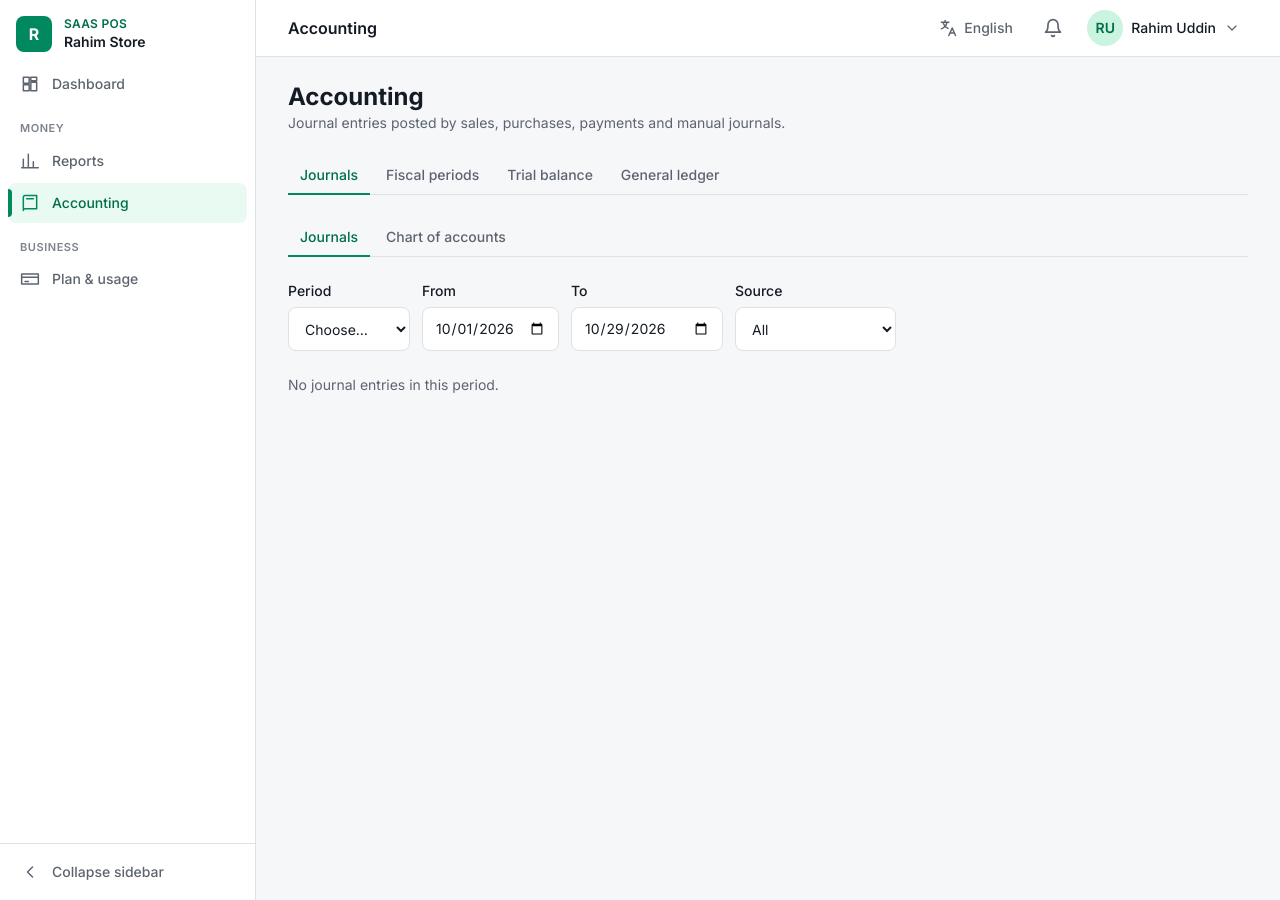
Test case: accounting › renames a system account, with its code and type locked, and shows a stale-version error
Click the tab "Chart of accounts": x=446, y=238 [374, 219, 518, 257]
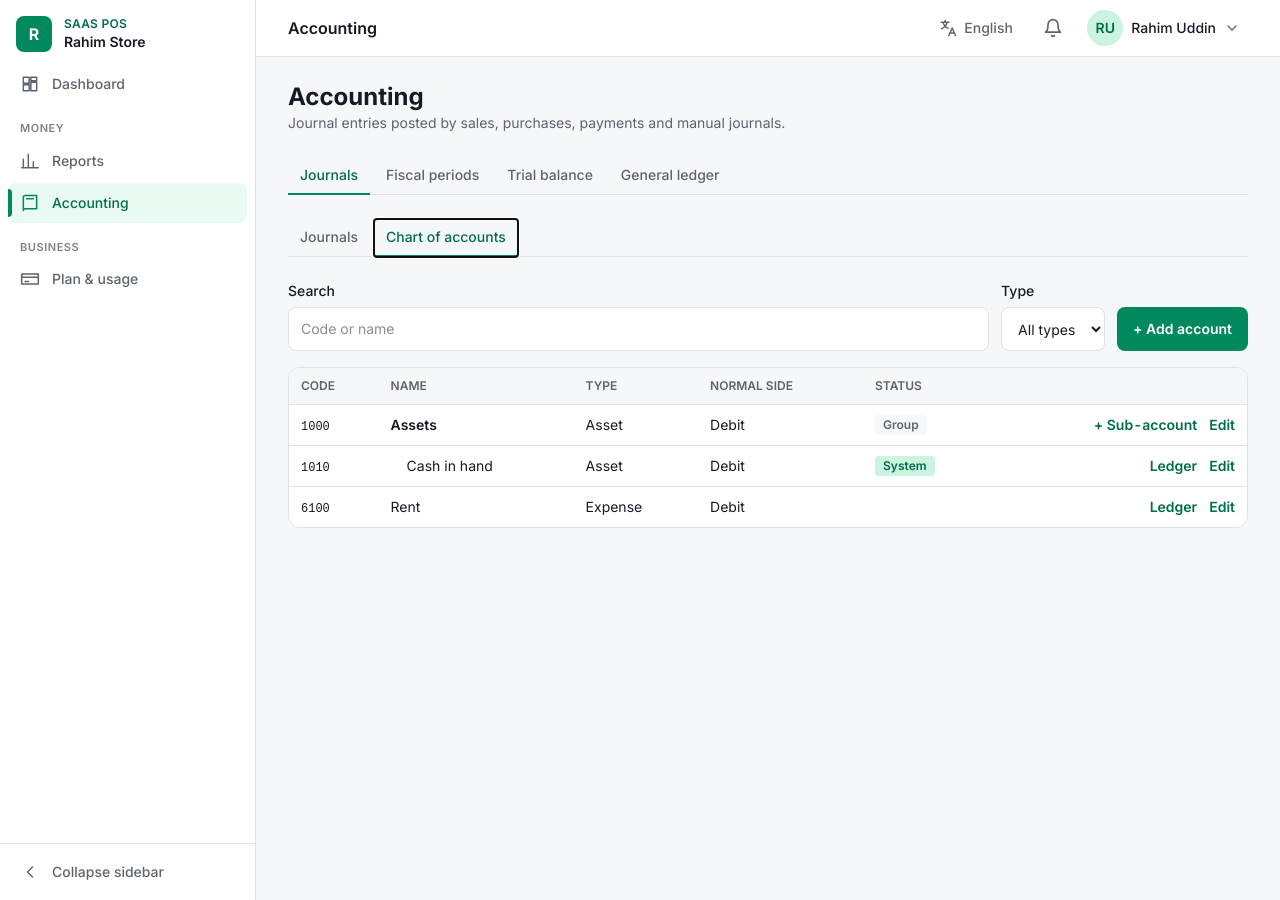
Click the button with aria-label "Edit Cash in hand": x=1222, y=466 [1209, 456, 1235, 476]
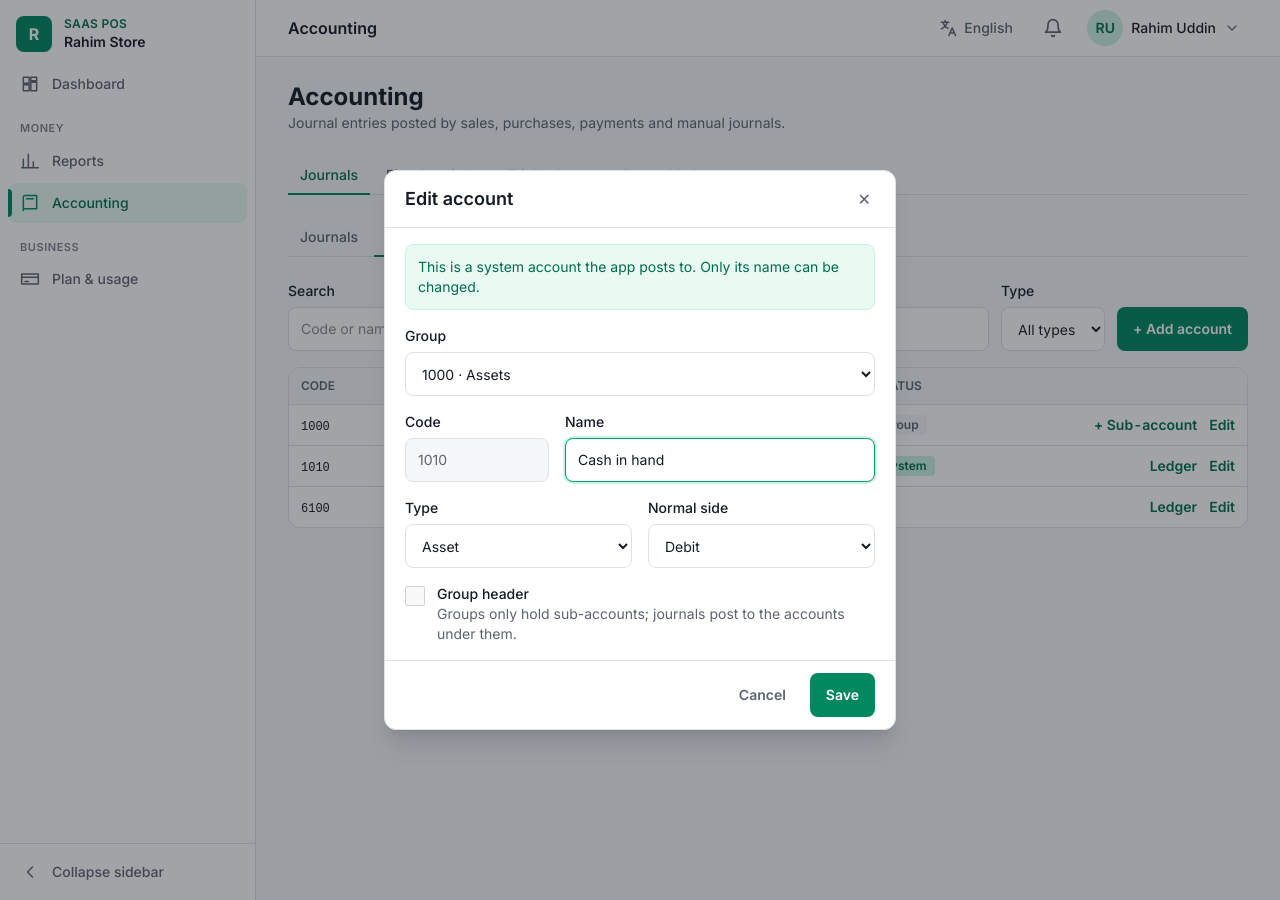
Result: the text "This is a system account the app posts to. Only its name can be changed." is shown at [405, 244, 875, 310]
Result: the field labelled "Code" is disabled at [405, 438, 549, 482]
Result: the dropdown labelled "Normal side" is disabled at [648, 524, 875, 568]
Replace the text in the field labelled "Name" with "Cash box": x=720, y=460 [565, 438, 875, 482]
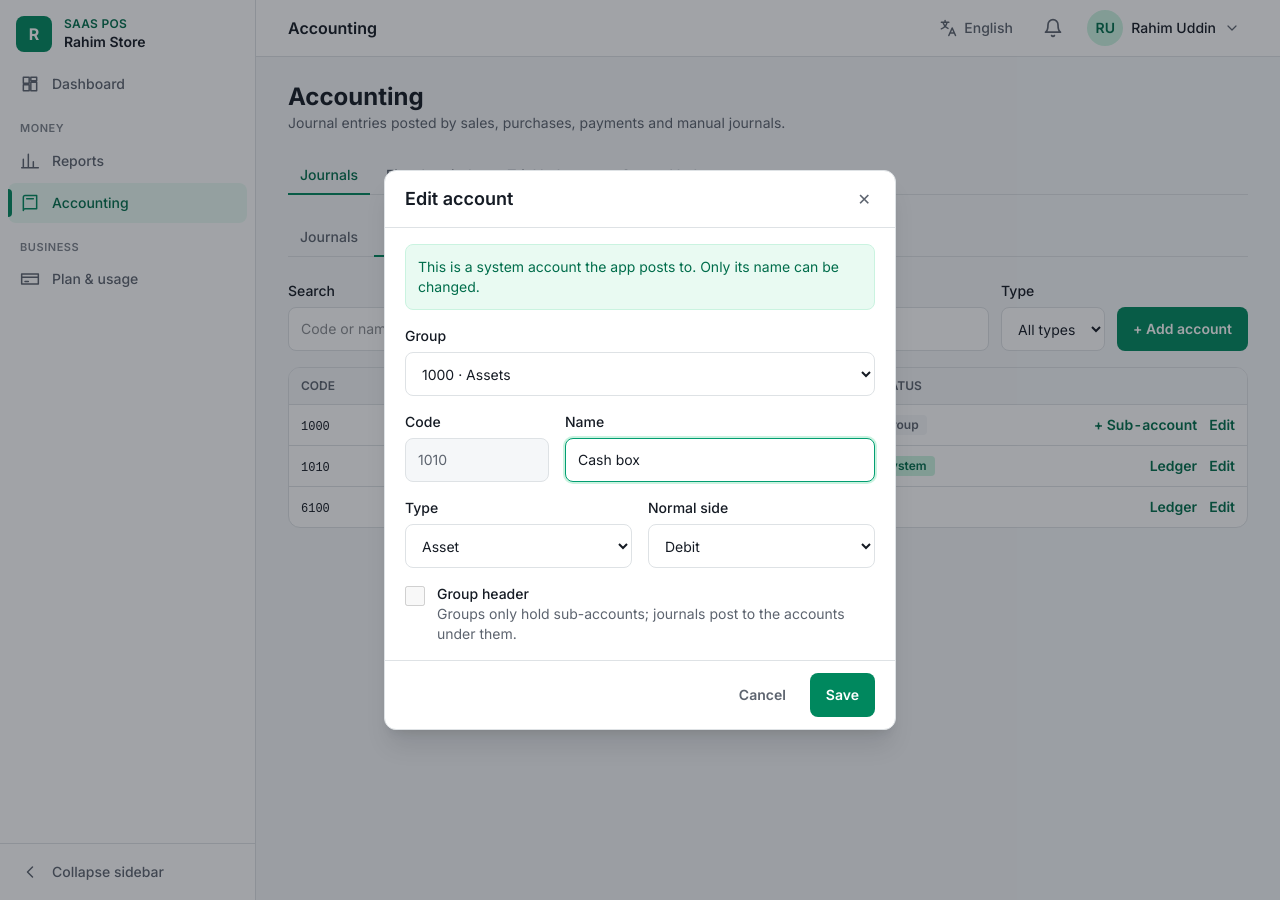
Click the button "Save": x=842, y=695 [810, 673, 875, 717]
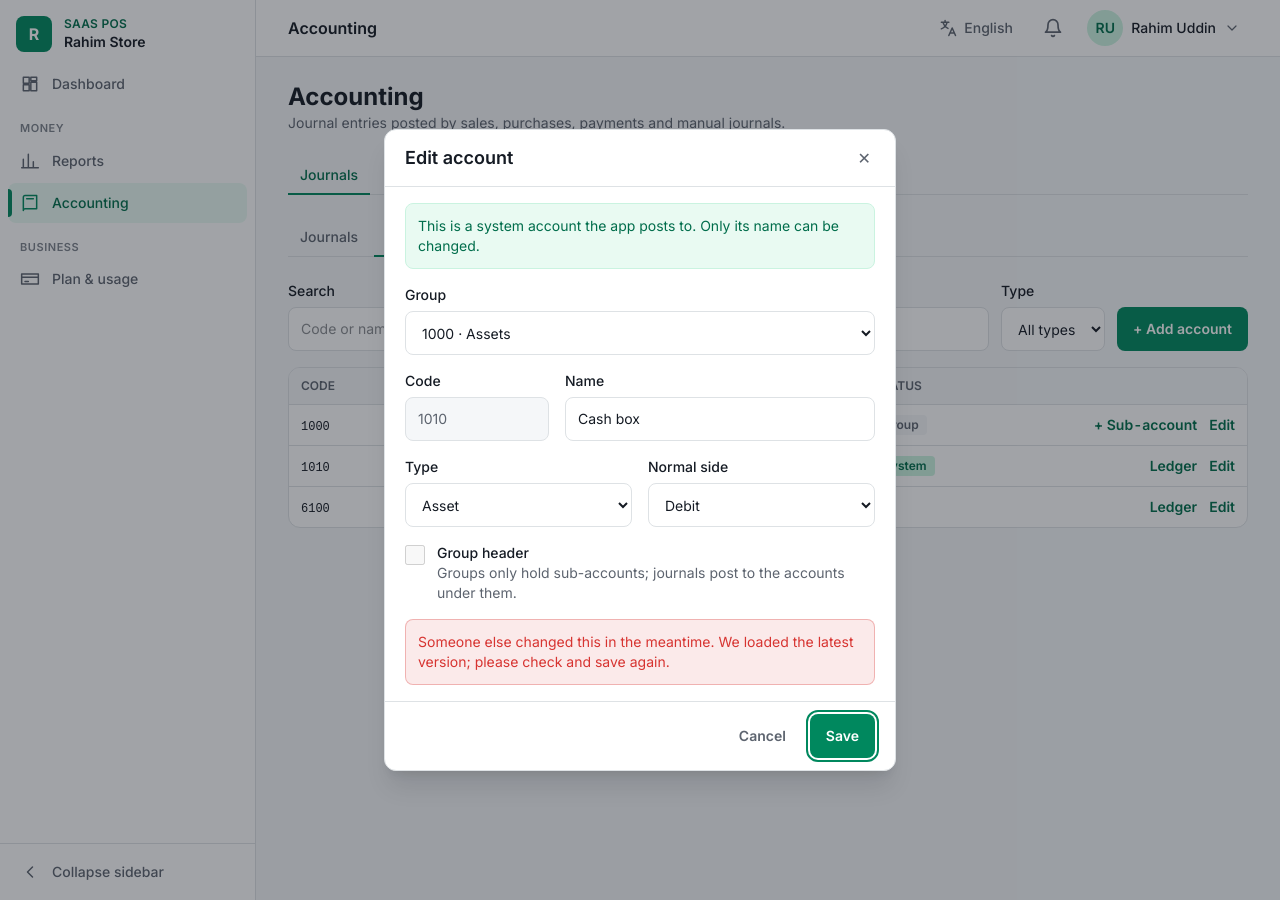
Result: the text "Someone else changed this" is shown at [418, 633, 854, 670]
